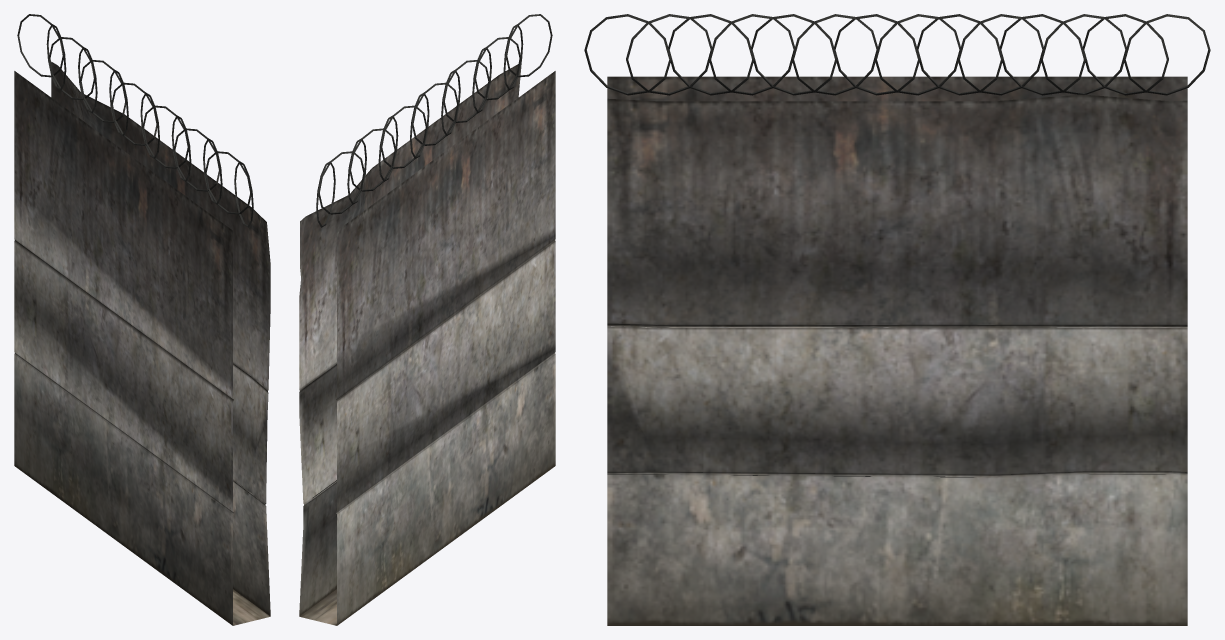
Rendered from brik-segment.glb.
3 views of the same model, side by side, from view 1: azimuth 30°, elevation 25°; view 2: azimuth 150°, elevation 25°; view 3: azimuth 270°, elevation 25° (orthographic). The views are drawn at different scales.
Visible parts, largest first — view 1: hull; view 2: hull; view 3: hull.
Part boxes in pixels (box(x1,y1,x2,y2)): hull: box(14, 14, 270, 625); hull: box(299, 14, 555, 625); hull: box(584, 14, 1210, 625).
Bounding box in the file's own units: 0.4 × 4.56 × 4.32.
1 material, 1 textured.
